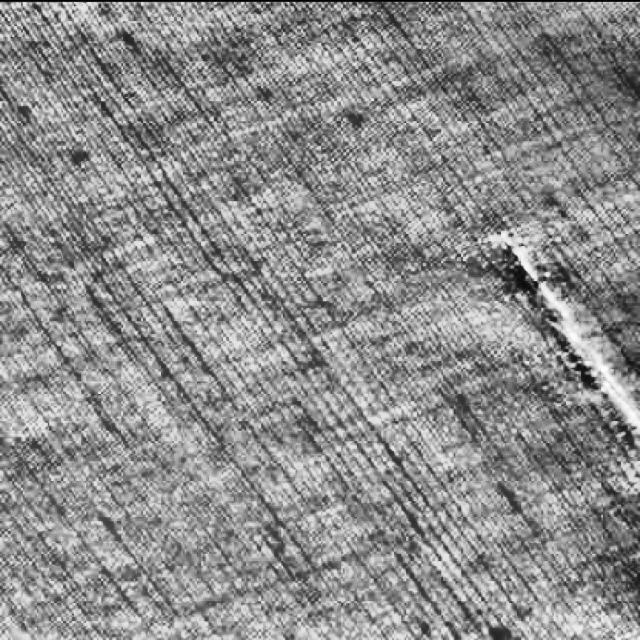hole: (481, 217, 640, 470)
